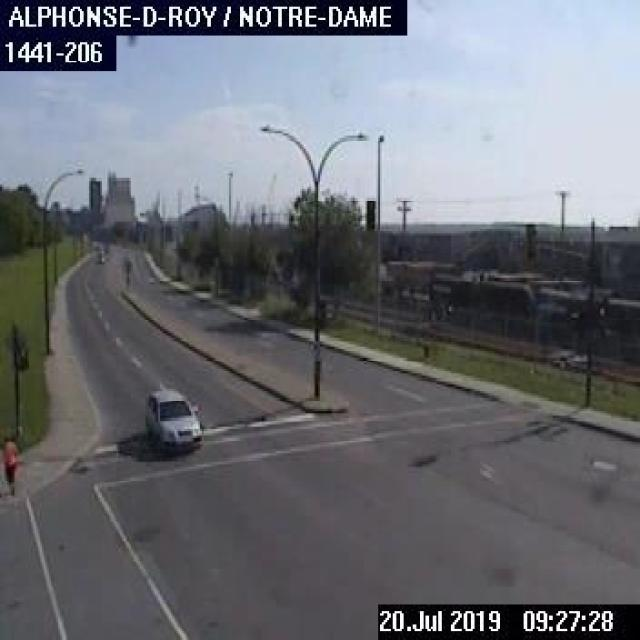pedestrian: (0, 427, 18, 498)
vehicle: (142, 384, 202, 446)
